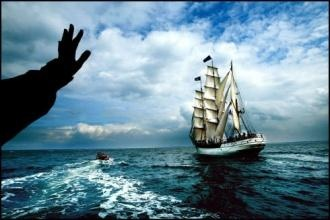fanchuan: (182, 54, 269, 159)
